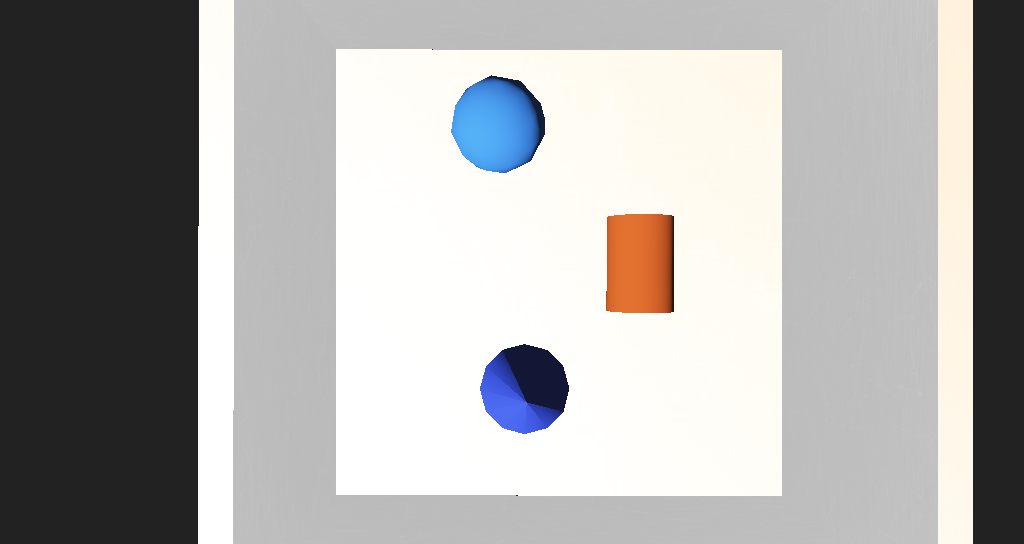cone: (536, 239, 583, 286)
cylinder: (455, 303, 515, 356)
sphere: (435, 179, 495, 222)
